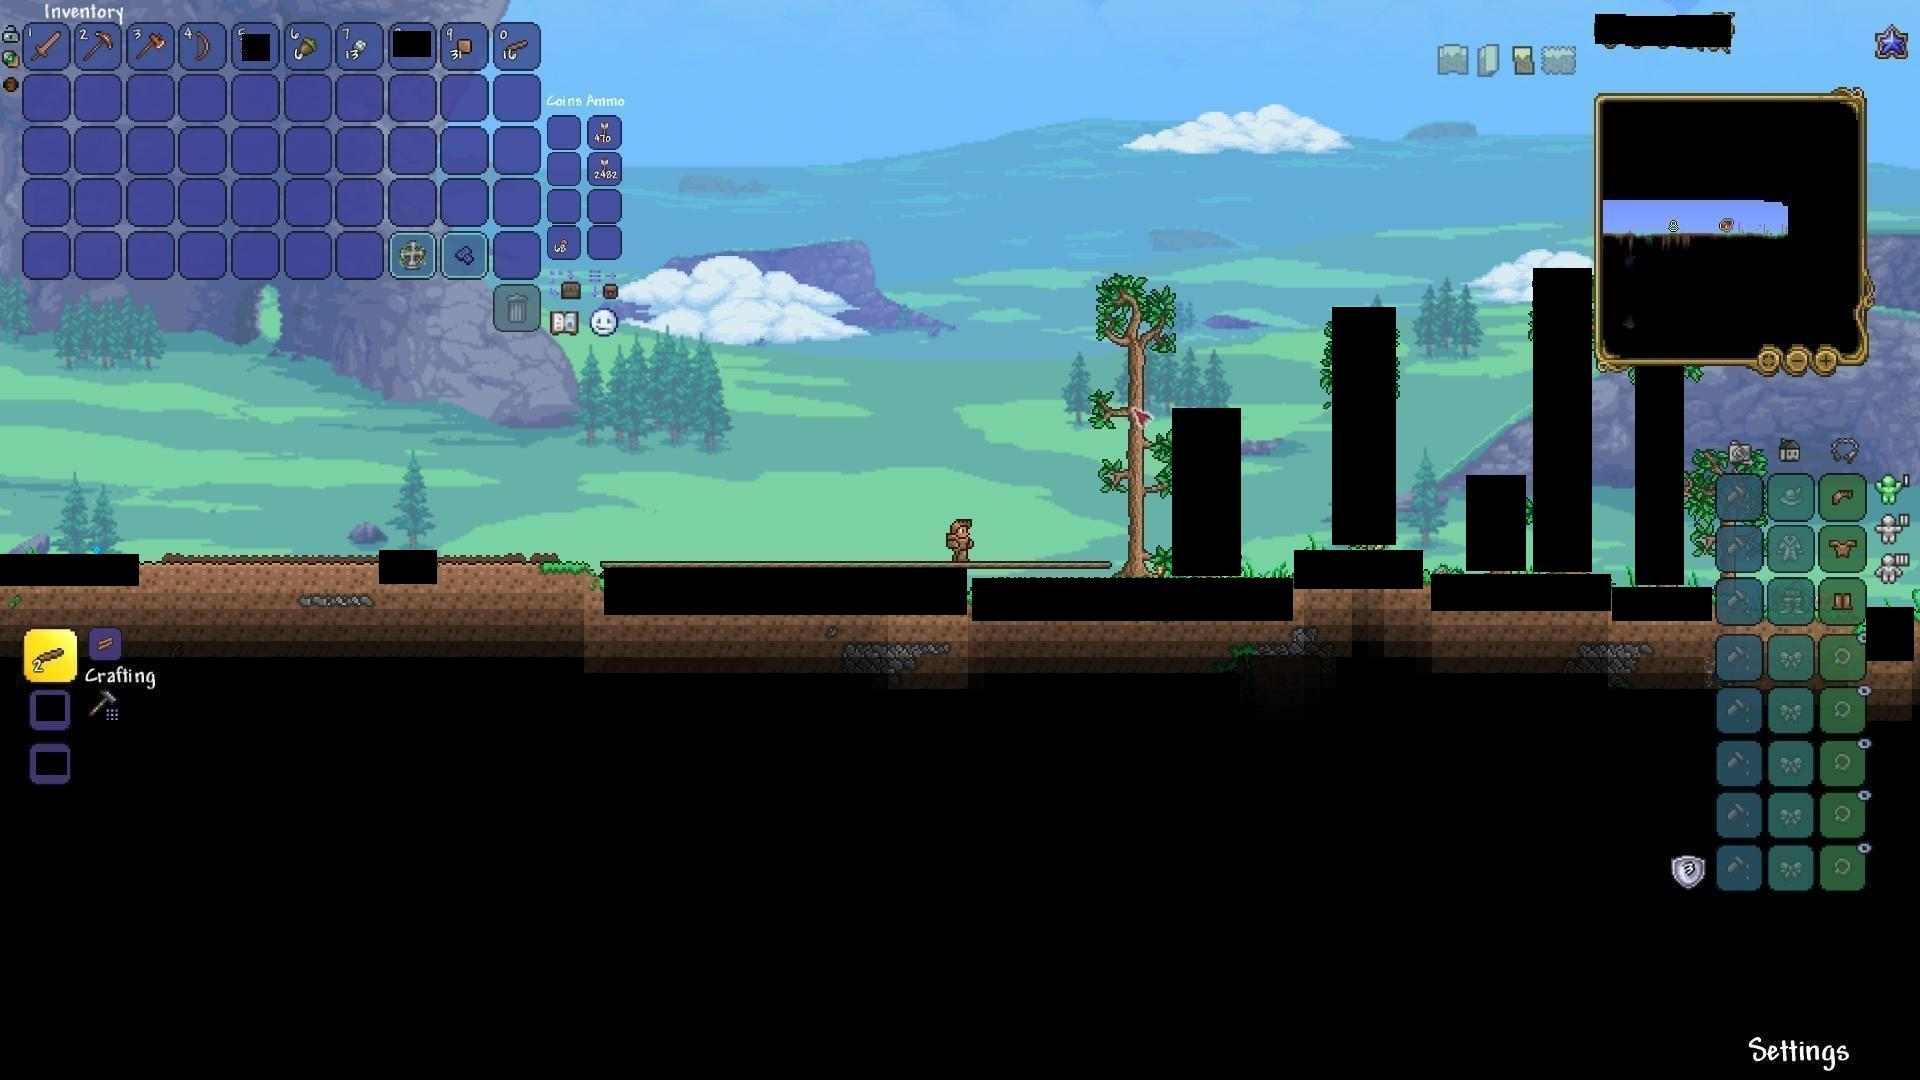breastplate: (1829, 537, 1859, 558)
dirt: (541, 549, 597, 611)
helmet: (1826, 483, 1858, 512)
legs: (1830, 585, 1855, 616)
tree: (1093, 258, 1170, 574)
wood: (88, 628, 120, 658)
